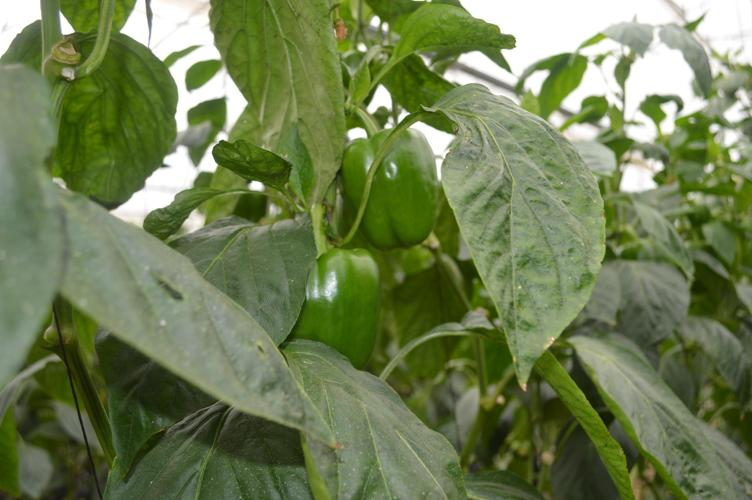BellPepper: (337, 127, 454, 267), (278, 244, 381, 385)
